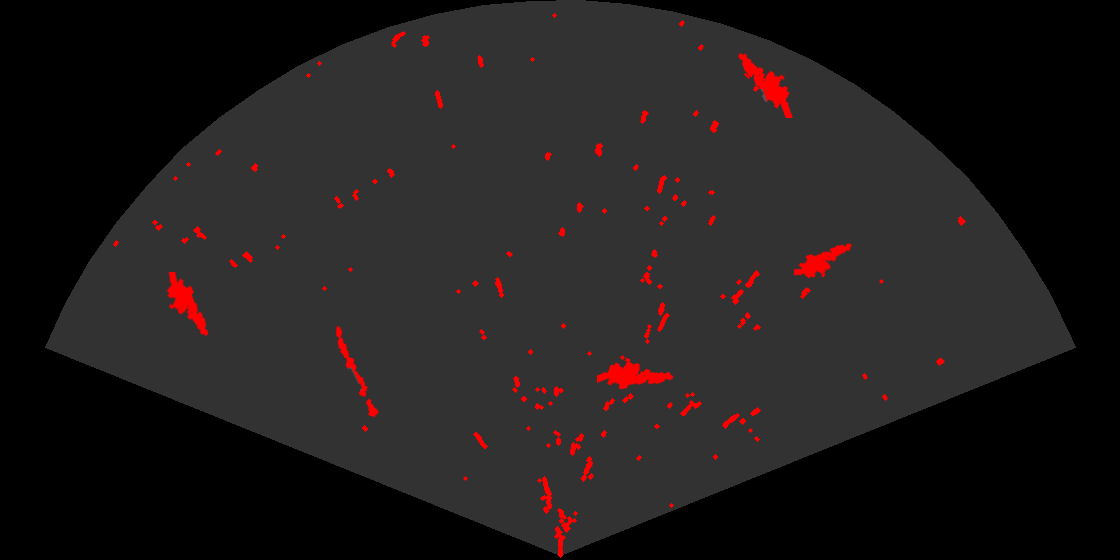chain: (334, 324, 380, 419)
frogman: (737, 51, 794, 118), (165, 272, 210, 338), (597, 356, 675, 391), (794, 242, 854, 280)
